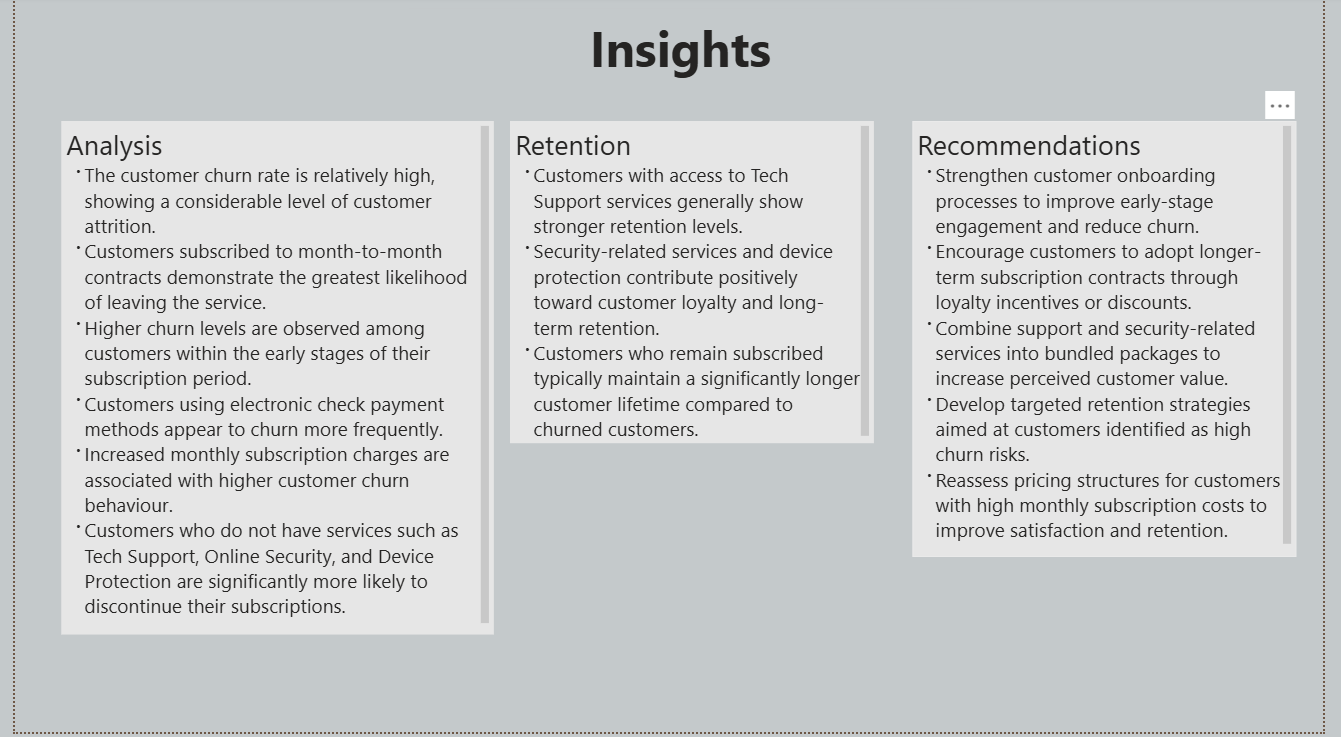

What the dashboard file says about the page in this screenshot:
{"tool":"powerbi","page":{"name":"Insights","canvas":[1280,720],"ordinal":2},"visuals":[{"type":"textbox","box":[45.2,122.3,423.1,502.6],"z":0},{"type":"textbox","box":[484.2,122.3,355.8,315.5],"z":1000},{"type":"textbox","box":[878,122.3,375.4,426.8],"z":2000},{"type":"textbox","box":[385.2,12.2,551.5,74.6],"z":3000}]}

Visuals, with their boxes in screenshot pixels (x1, y1, x2, y2), scaled from the page's 1280x720 canvas onto the 1341x737 screenshot:
textbox: {"left": 47, "top": 125, "right": 491, "bottom": 640}
textbox: {"left": 507, "top": 125, "right": 880, "bottom": 448}
textbox: {"left": 920, "top": 125, "right": 1313, "bottom": 562}
textbox: {"left": 404, "top": 12, "right": 981, "bottom": 89}
